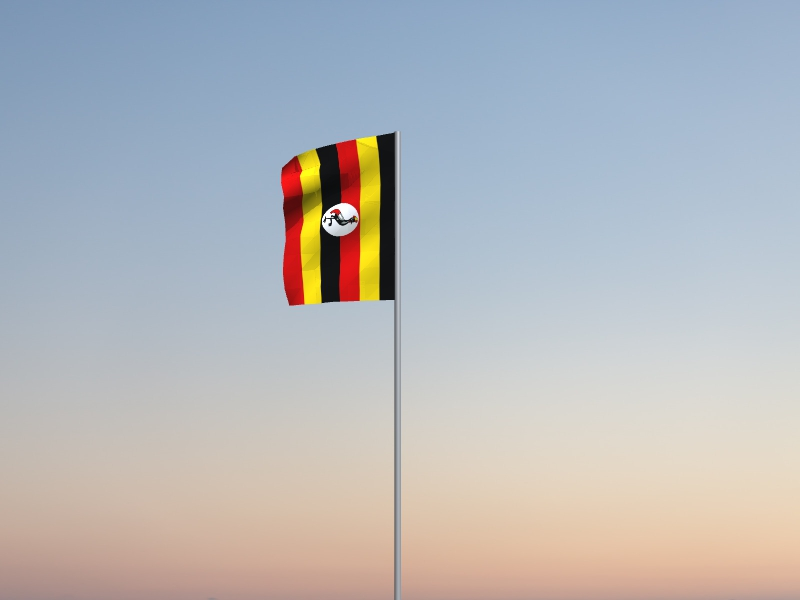ug: (281, 133, 396, 307)
